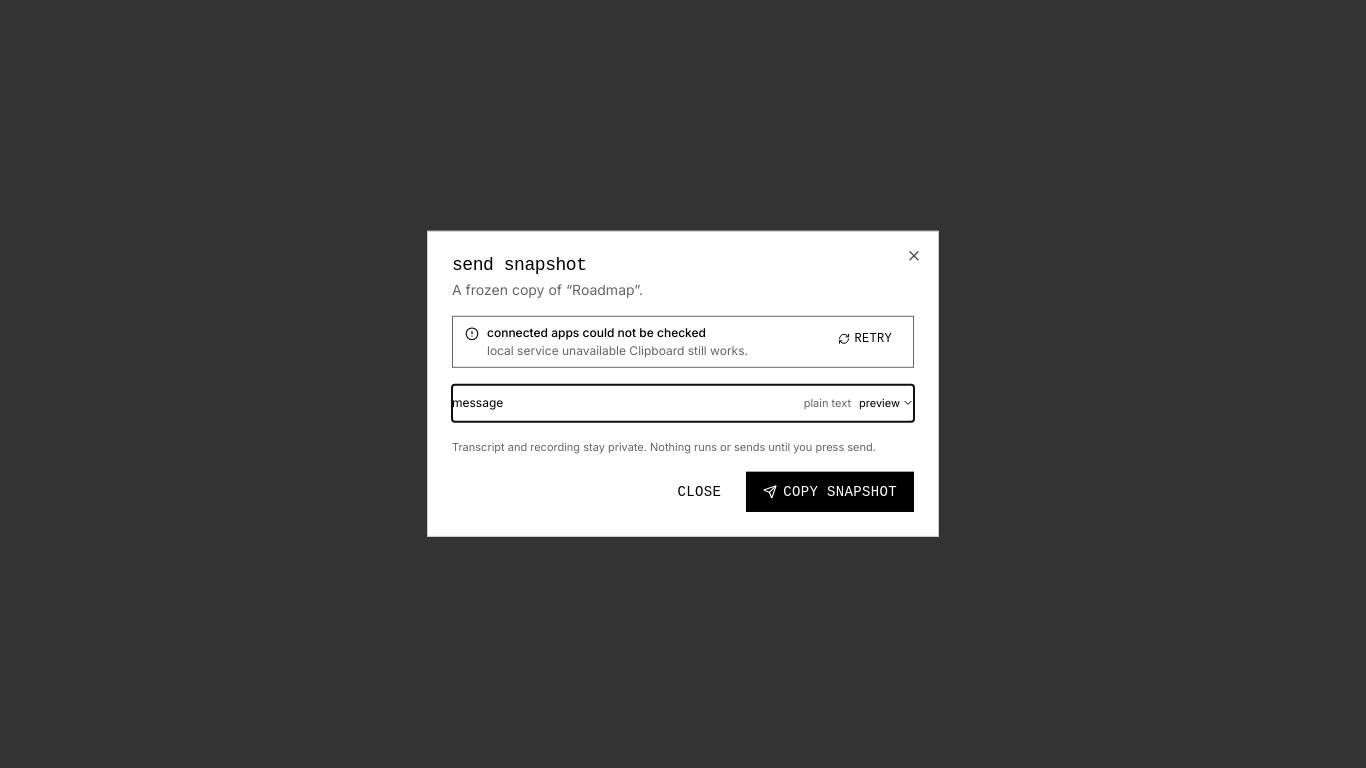
ConnectedShareDialog › keeps clipboard available and recovers when connection discovery fails
The width and height of the screenshot is (1366, 768).
Expected: the message with test id "connected-share-connections-error" shows "Clipboard still works", [626, 343, 748, 358]
Expected: the button "copy snapshot" is enabled, [746, 472, 914, 512]
Click the button "retry".
click(865, 339)  # box [830, 325, 901, 353]
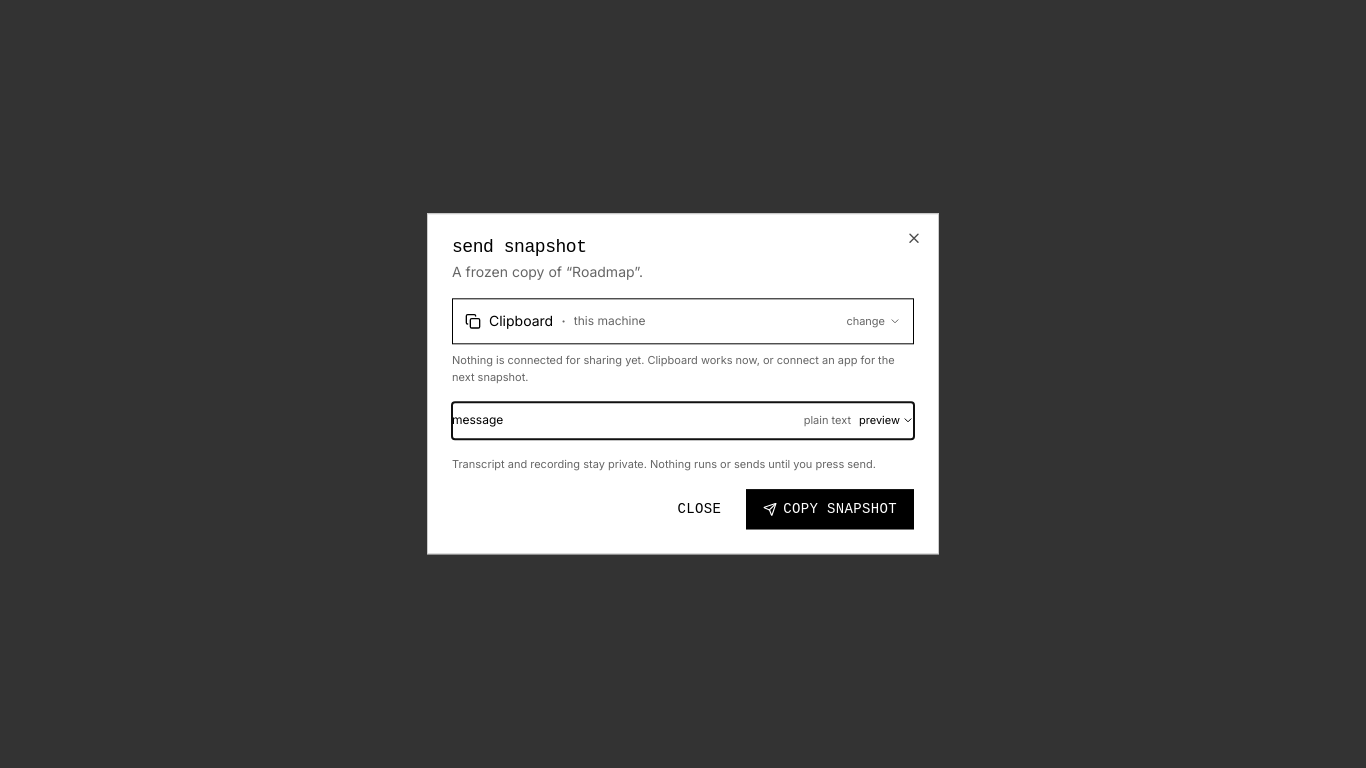
Expected: the text with test id "connected-share-empty" is shown, [452, 352, 914, 385]
Expected: the message with test id "connected-share-connections-error" is gone
